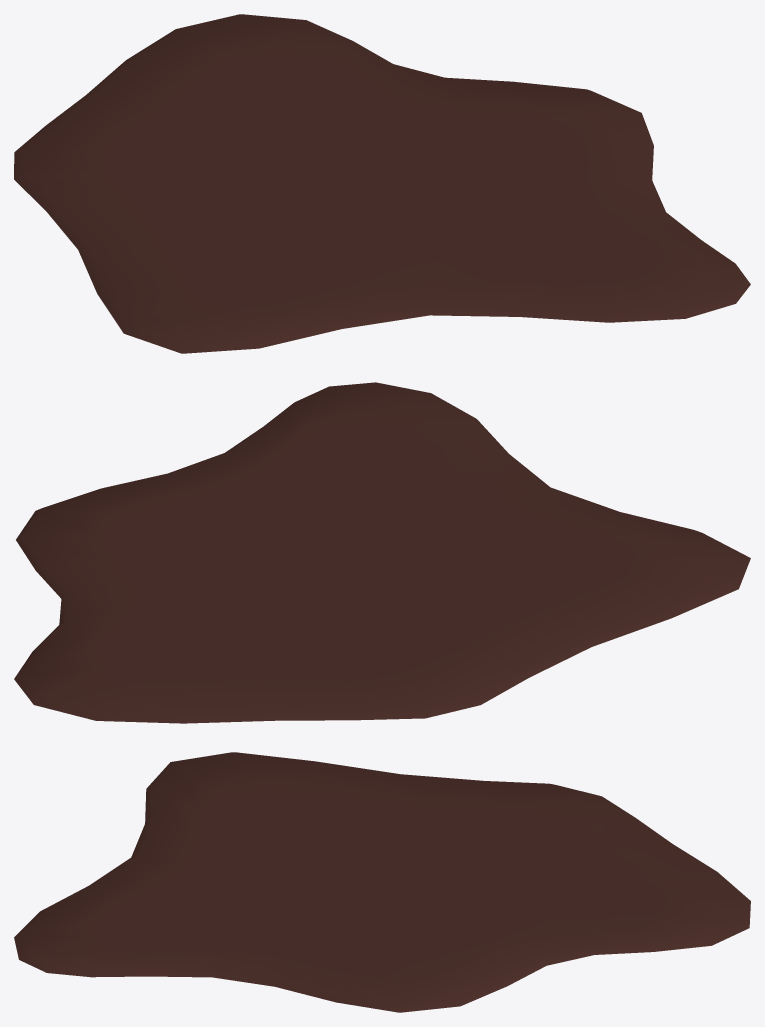
File: Lama.fbx
3 views of the same model, one above another, from view 1: azimuth 30°, elevation 25°; view 2: azimuth 150°, elevation 25°; view 3: azimuth 270°, elevation 25° (orthographic). The views are drawn at different scales.
Visible parts, largest first — view 1: Lama; view 2: Lama; view 3: Lama.
Part boxes in pixels (x1,y1,x2,y2): Lama: [14, 14, 750, 353]; Lama: [14, 382, 750, 723]; Lama: [14, 752, 750, 1012].
Bounding box in the file's own units: 464 × 3.25 × 555.
